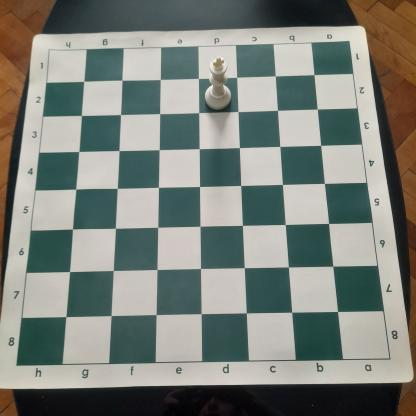white-king: (204, 54, 233, 111)
